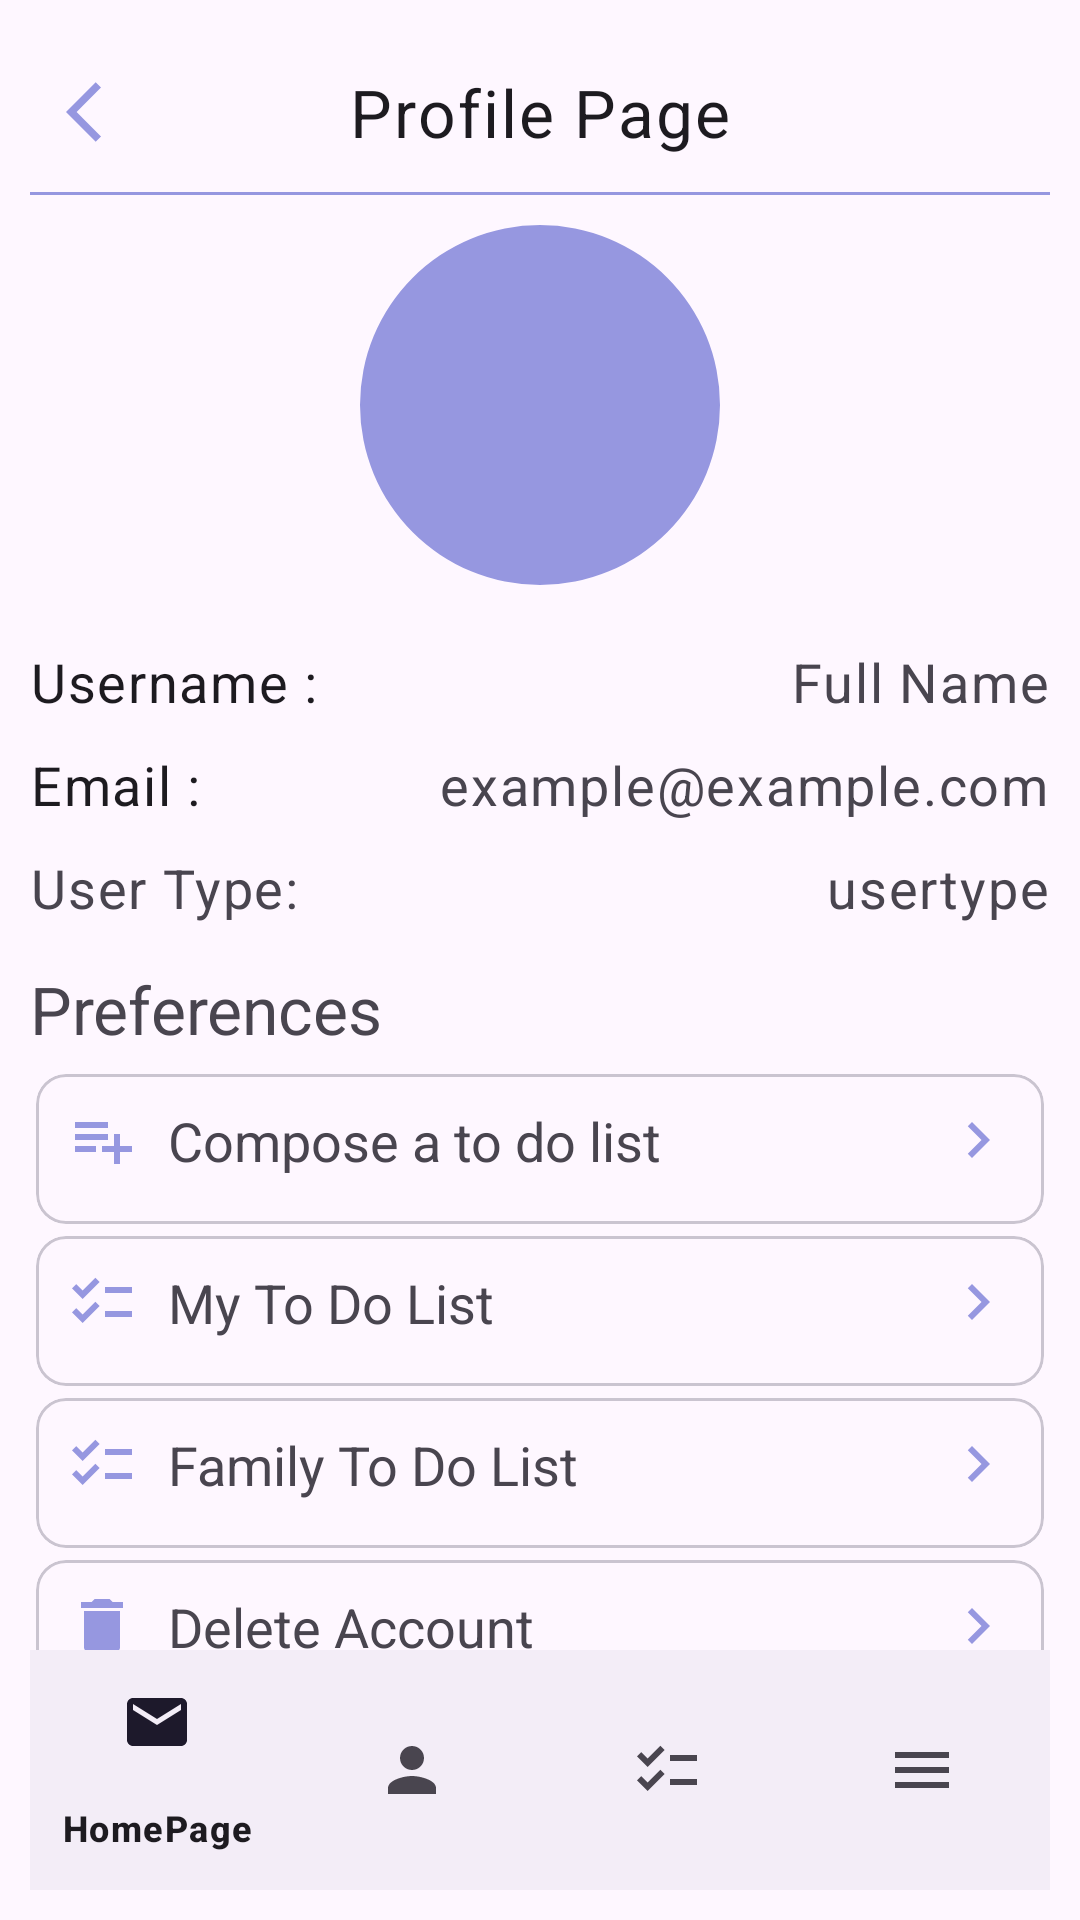

Icon bounding boxes for this 1080px×1920px phone screenshot, format region(x1, y1, x2, y2):
Navigate back: region(66, 82, 101, 142)
